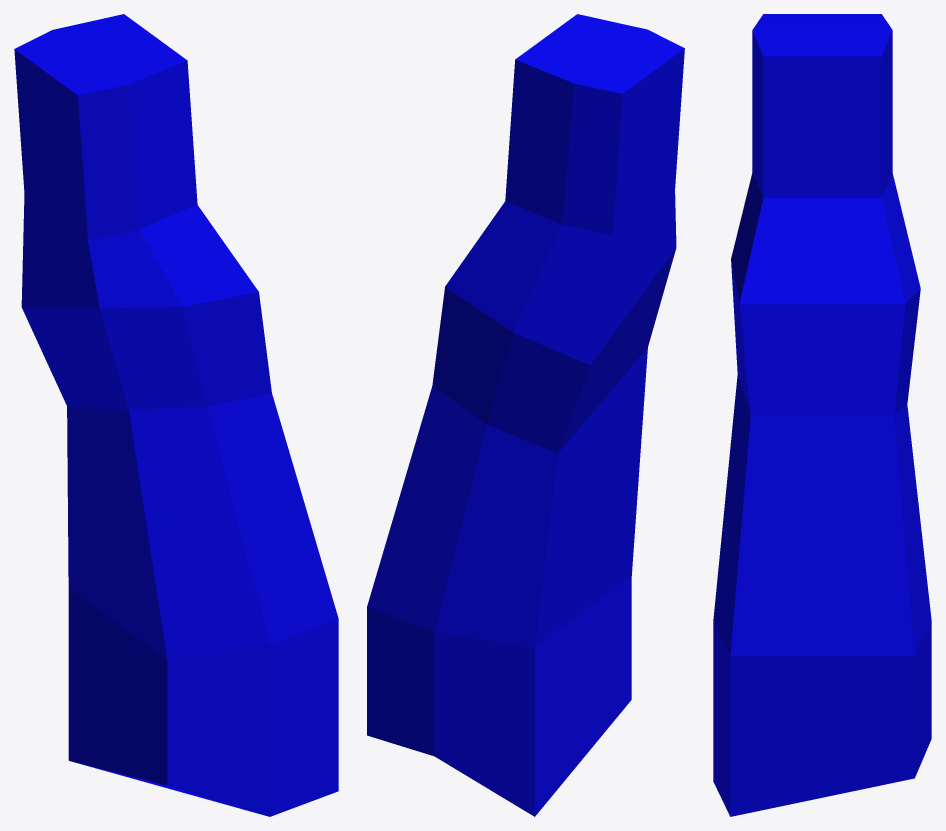
Rendered from Randon_Crystal_01.fbx.
3 renders of one model, left to right at view 1: azimuth 30°, elevation 25°; view 2: azimuth 150°, elevation 25°; view 3: azimuth 270°, elevation 25°, orthographic. The views are drawn at different scales.
Visible parts, largest first — view 1: Randon_Crystal_01; view 2: Randon_Crystal_01; view 3: Randon_Crystal_01.
Part boxes in pixels (box(x1,y1,x2,y2)): Randon_Crystal_01: box(14, 14, 338, 816); Randon_Crystal_01: box(367, 14, 684, 816); Randon_Crystal_01: box(713, 14, 931, 816).
Size of the model in its own units: 1.63 by 4.81 by 1.36.
